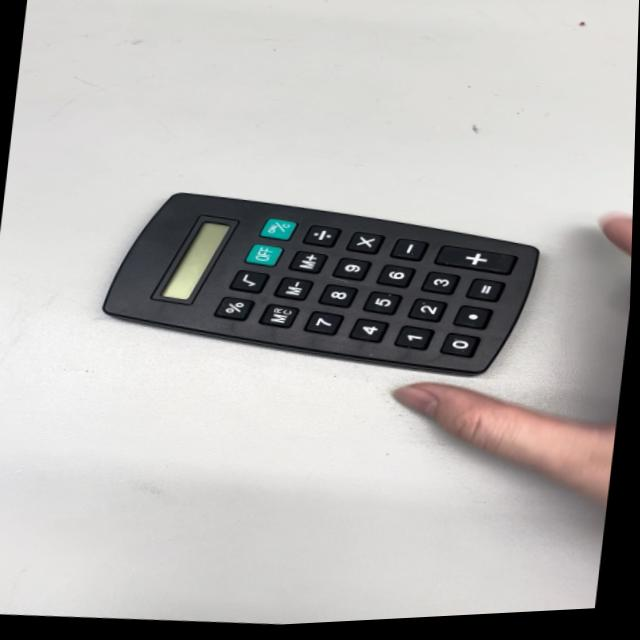calculator: (97, 166, 546, 401)
